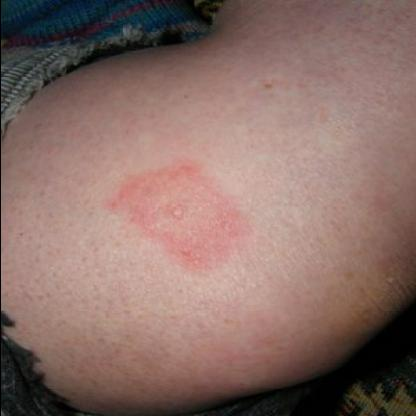Tick: (94, 160, 248, 280)
